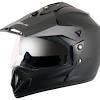helmet: (3, 2, 99, 97)
